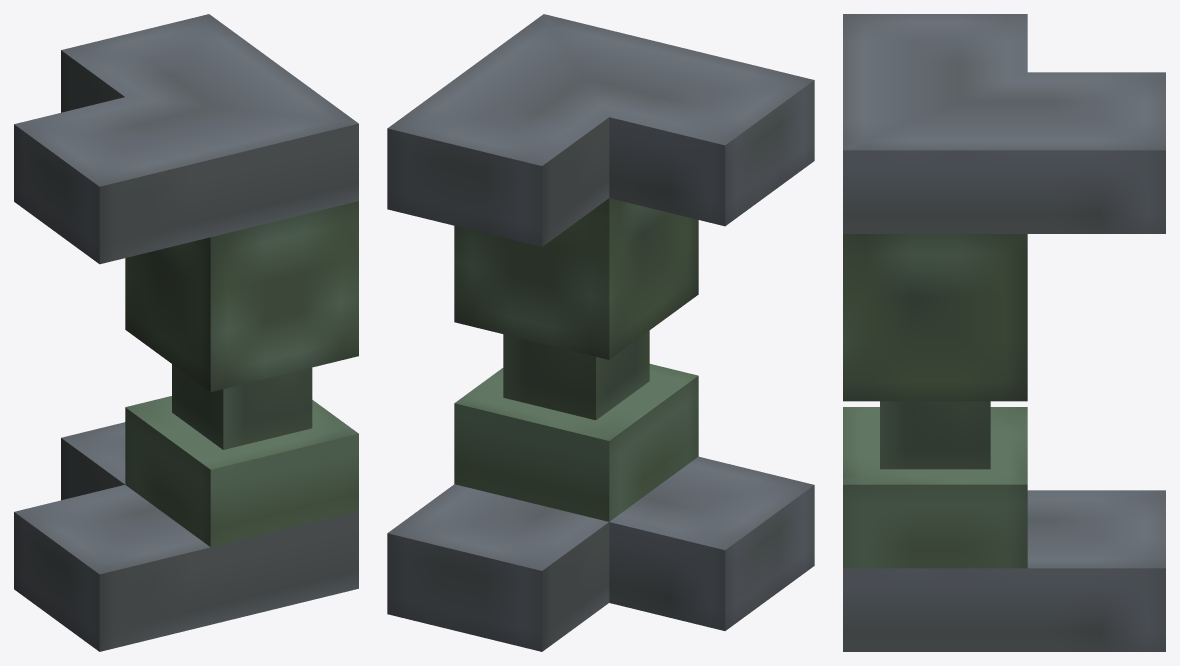
The model's file is railing_corner_green.fbx.
3 renders of one model, left to right at view 1: azimuth 30°, elevation 25°; view 2: azimuth 150°, elevation 25°; view 3: azimuth 270°, elevation 25°, orthographic. The views are drawn at different scales.
Parts seen in each view (by area): view 1: railing_corner_green; view 2: railing_corner_green; view 3: railing_corner_green.
Boxes of the visible parts, x1=… form: railing_corner_green: x1=14, y1=14, x2=358, y2=651; railing_corner_green: x1=387, y1=14, x2=814, y2=651; railing_corner_green: x1=843, y1=14, x2=1165, y2=651.
Bounding box in the file's own units: 7 × 12 × 7.
